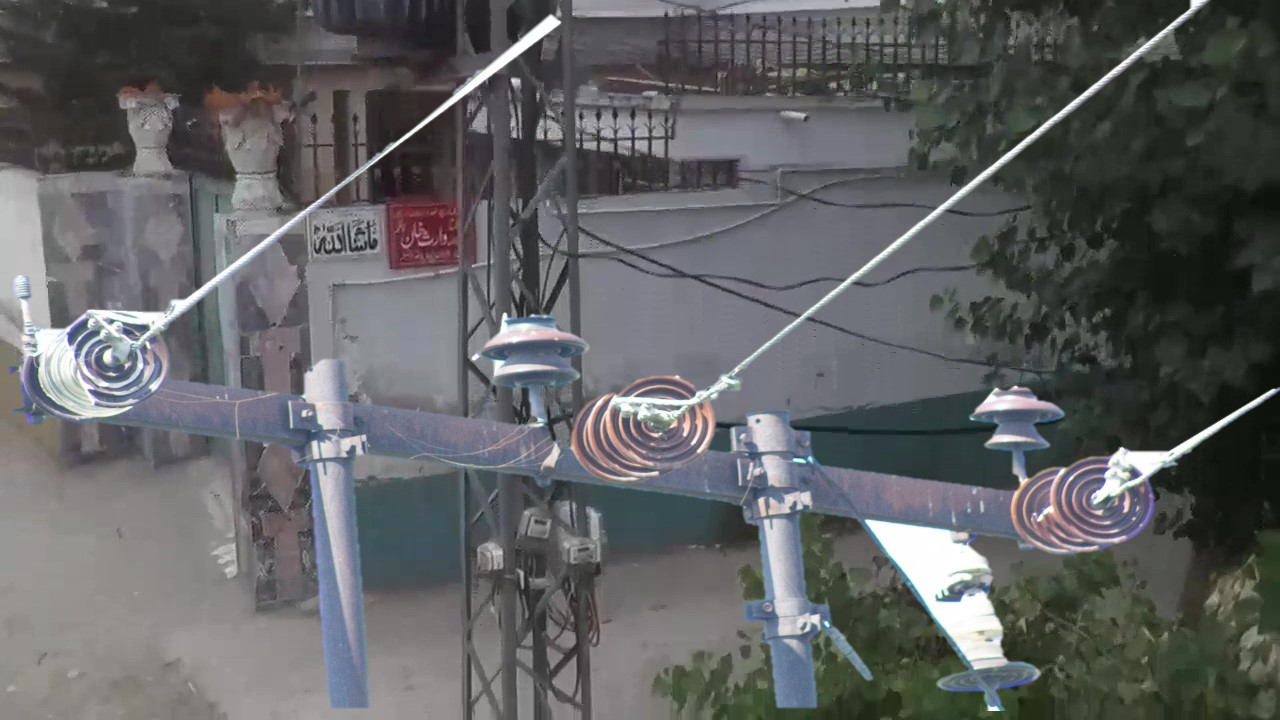defect_disc: (61, 304, 173, 416)
insulator_disc: (1046, 449, 1160, 552), (603, 371, 719, 470)
